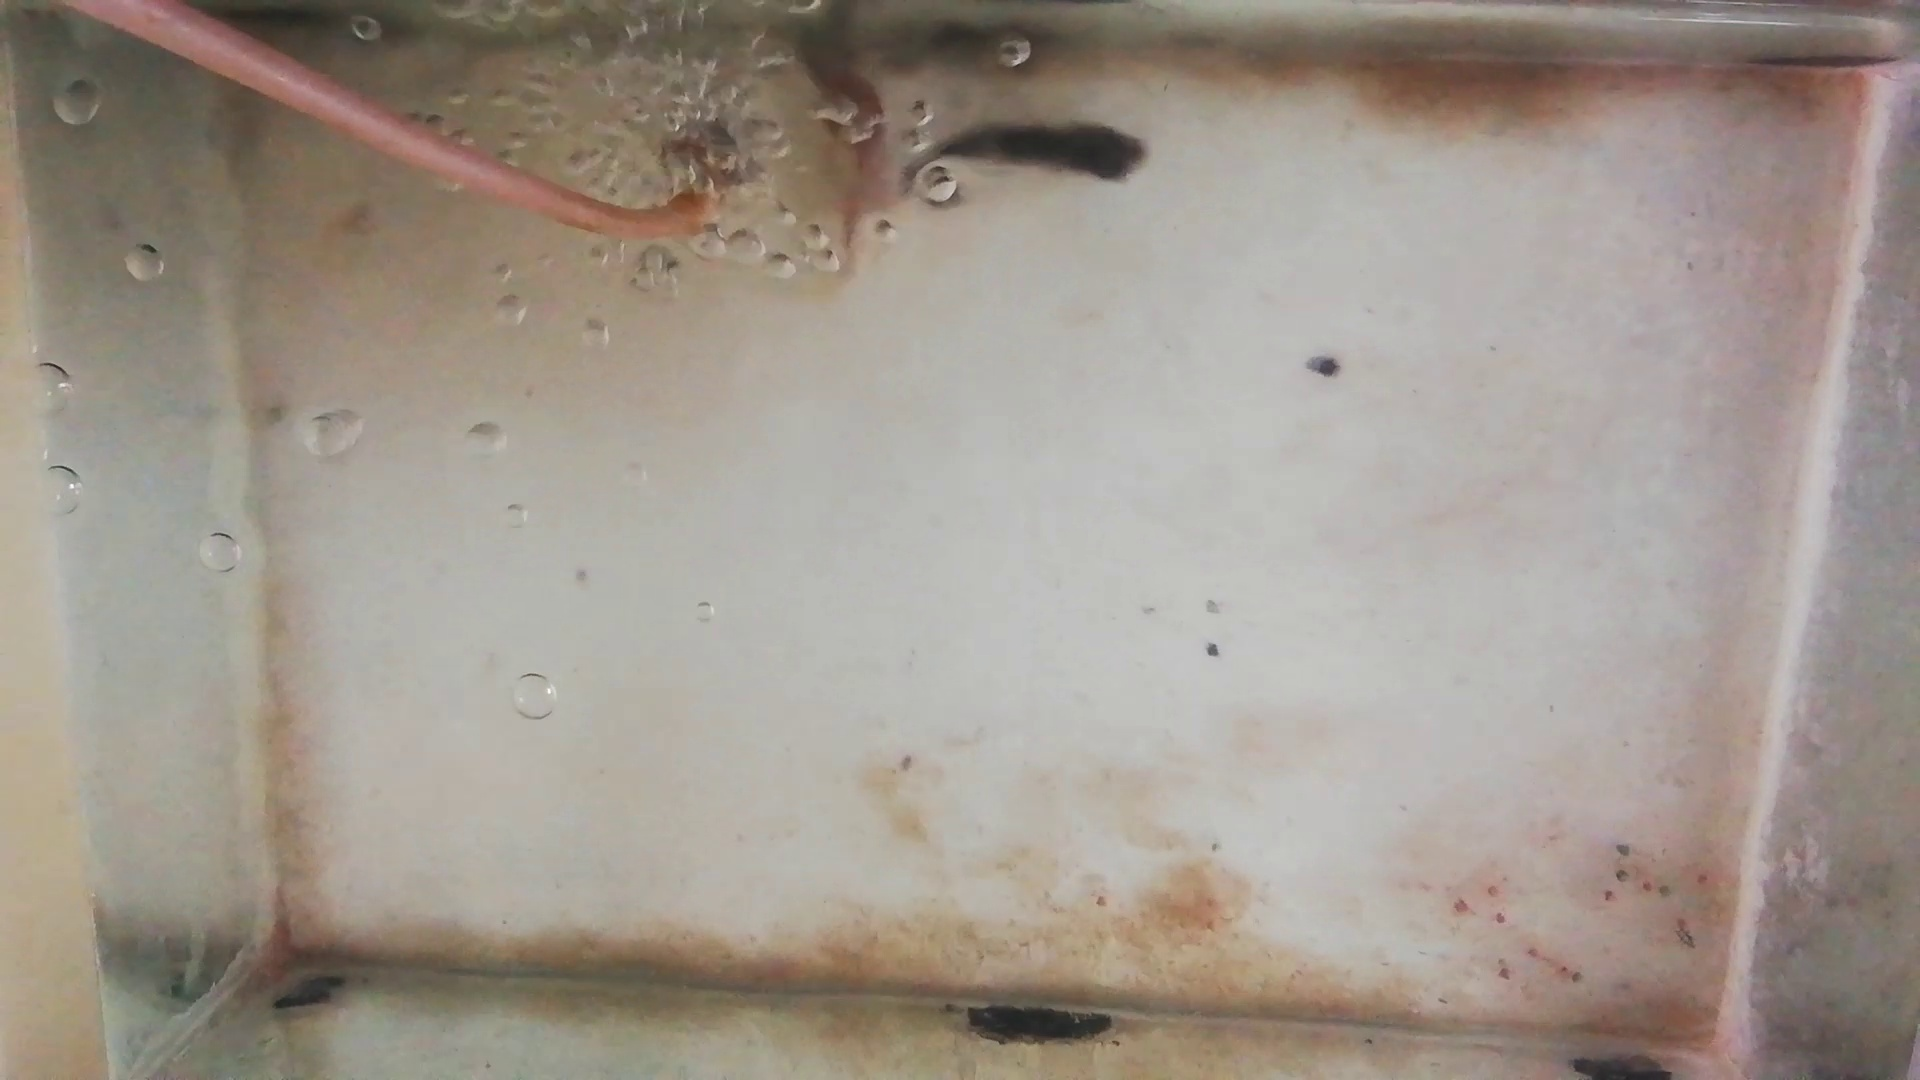fish: (790, 47, 885, 245), (909, 123, 1154, 185)
